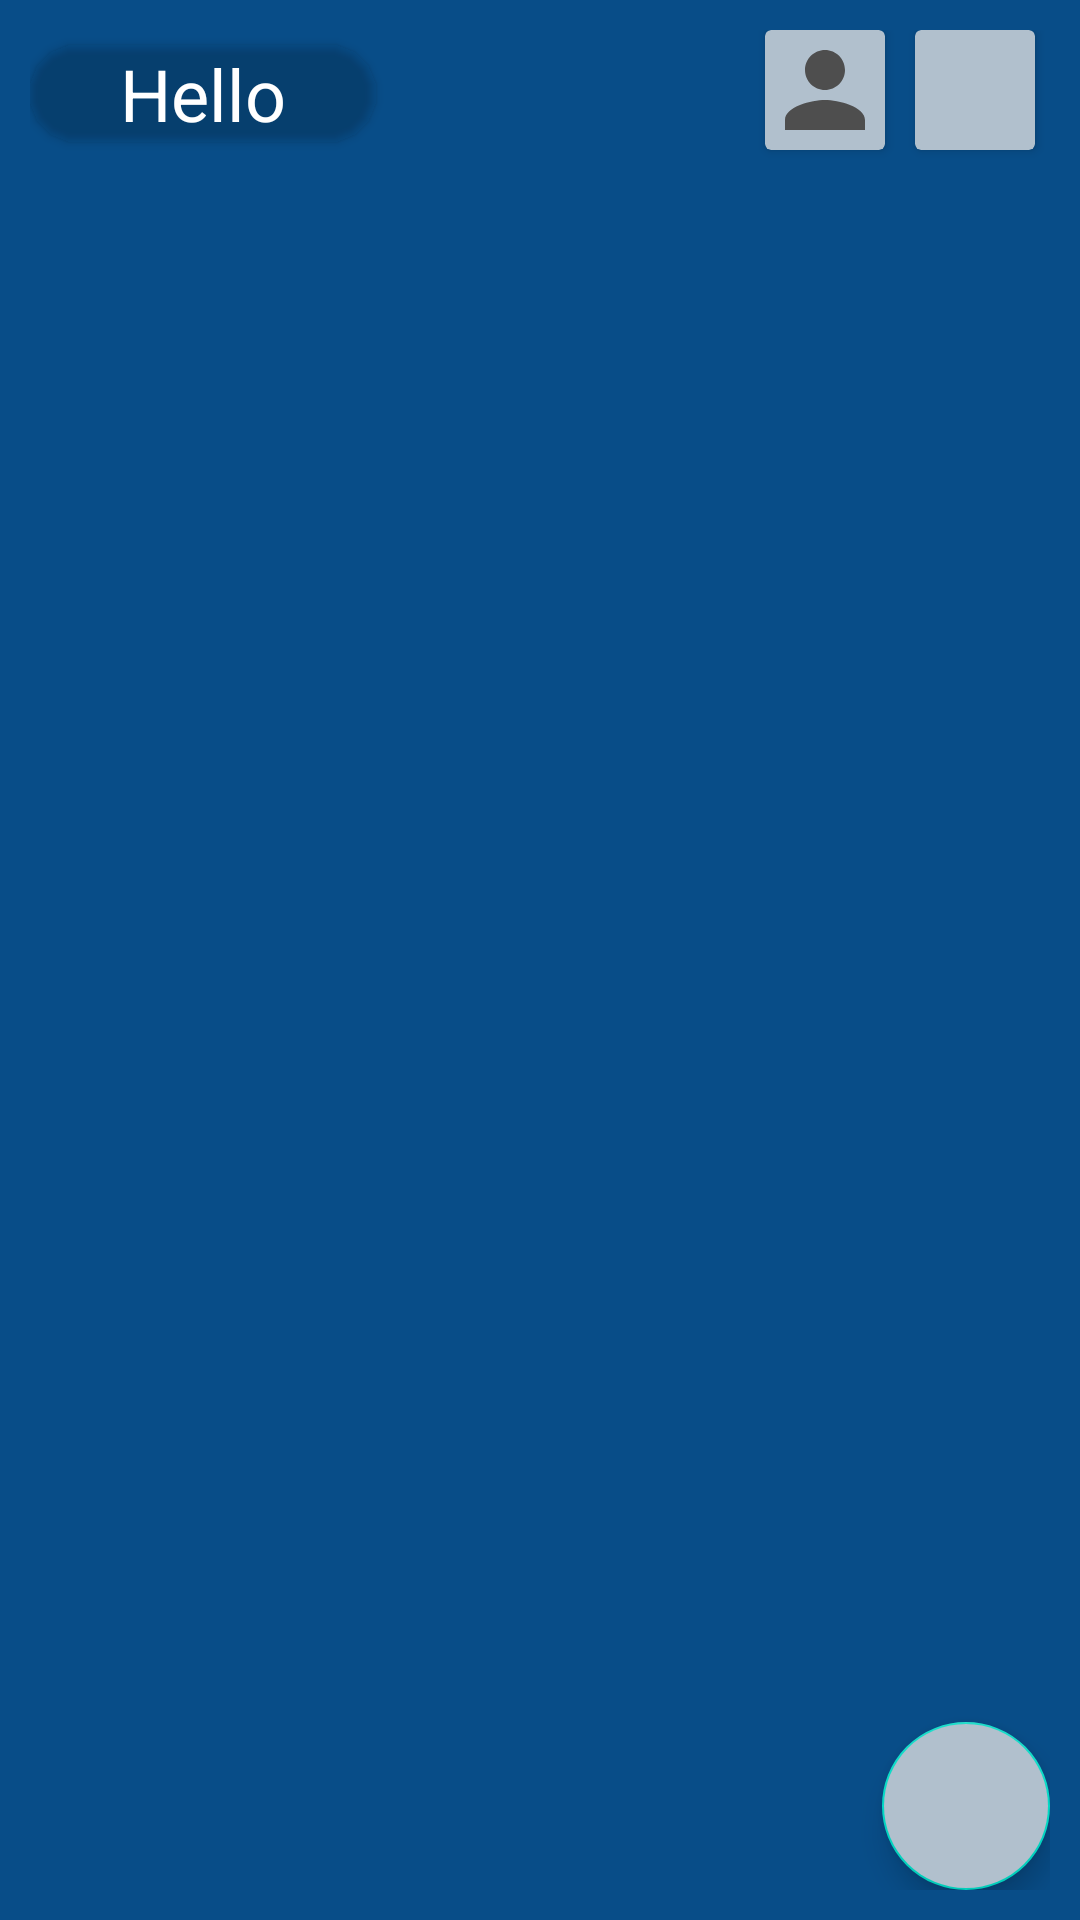

Locate icon controls on the screen. Image size 1080×1920, boxes as [left=x1, top=y1, right=x2, bottom=y2].
person: [left=765, top=30, right=885, bottom=150]
